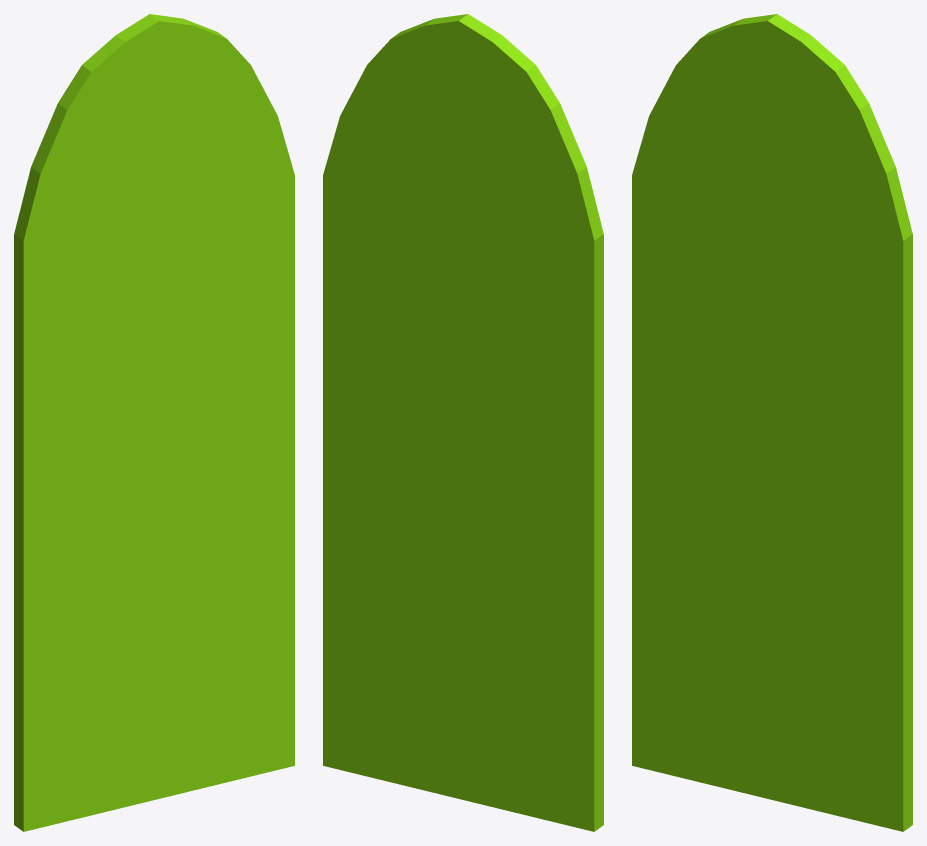
The model's file is GrandfatherClock_OpeningDoor.fbx.
3 views of the same model, side by side, from view 1: azimuth 30°, elevation 25°; view 2: azimuth 150°, elevation 25°; view 3: azimuth 330°, elevation 25° (orthographic).
Visible parts, largest first — view 1: Door; view 2: Door; view 3: Door.
Boxes of the visible parts, x1,y1,x2,y2 form: Door: (14,14,294,831); Door: (323,14,603,831); Door: (632,14,912,831).
Size of the model in its own units: 38.22 by 105 by 2.33.
